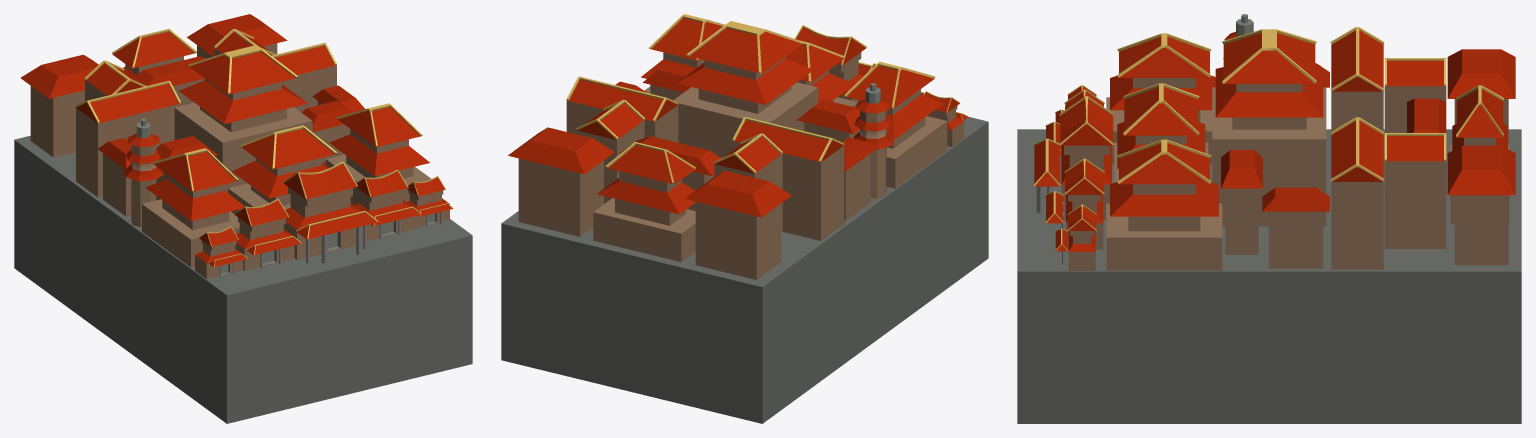
File: temple_north.fbx
3 renders of one model, left to right at view 1: azimuth 30°, elevation 25°; view 2: azimuth 150°, elevation 25°; view 3: azimuth 270°, elevation 25°, orthographic. The views are drawn at different scales.
Visible parts, largest first — view 1: temple_mailli5_temple_mailli4, pCube35, pCube36, polySurface14, pCube38, pCube30, pCube25, pCube24, pCube31, pCube37, pCylinder8, pCube27 (+6 smaller); view 2: temple_mailli5_temple_mailli4, pCube38, pCube36, polySurface14, pCube39, pCube35, polySurface18, pCube27, pCylinder8, pCube25, pCube37, pCube24 (+2 smaller); view 3: temple_mailli5_temple_mailli4, pCube35, pCube36, polySurface14, polySurface18, pCube38, pCube37, pCube25, pCube27, pCube24, pCube39, pCube30 (+4 smaller).
Boxes of the visible parts, bbox=[...] form: temple_mailli5_temple_mailli4: bbox=[14, 135, 472, 423]; pCube35: bbox=[142, 103, 431, 267]; pCube36: bbox=[174, 45, 312, 192]; polySurface14: bbox=[75, 42, 336, 197]; pCube38: bbox=[20, 14, 287, 157]; pCube30: bbox=[234, 169, 413, 270]; pCube25: bbox=[228, 125, 337, 213]; pCube24: bbox=[283, 161, 363, 259]; pCube31: bbox=[195, 176, 449, 279]; pCube37: bbox=[98, 85, 364, 216]; pCylinder8: bbox=[123, 118, 163, 227]; pCube27: bbox=[156, 100, 353, 200]; temple_mailli5_temple_mailli4: bbox=[501, 117, 988, 423]; pCube38: bbox=[508, 127, 791, 279]; pCube36: bbox=[673, 21, 818, 157]; polySurface14: bbox=[566, 76, 844, 240]; pCube39: bbox=[593, 142, 695, 261]; pCube35: bbox=[641, 14, 947, 188]; polySurface18: bbox=[576, 99, 782, 232]; pCube27: bbox=[643, 62, 859, 141]; pCylinder8: bbox=[853, 83, 894, 198]; pCube25: bbox=[785, 41, 857, 107]; pCube37: bbox=[615, 81, 875, 220]; pCube24: bbox=[794, 25, 866, 101]; temple_mailli5_temple_mailli4: bbox=[1017, 129, 1521, 423]; pCube35: bbox=[1106, 33, 1222, 270]; pCube36: bbox=[1212, 29, 1326, 226]; polySurface14: bbox=[1330, 27, 1384, 269]; polySurface18: bbox=[1384, 58, 1446, 248]; pCube38: bbox=[1447, 49, 1515, 265]; pCube37: bbox=[1262, 63, 1329, 268]; pCube25: bbox=[1114, 83, 1208, 182]; pCube27: bbox=[1221, 150, 1262, 254]; pCube24: bbox=[1059, 96, 1114, 220]; pCube39: bbox=[1450, 85, 1509, 224]; pCube30: bbox=[1064, 89, 1104, 249].
Bounding box in the file's own units: 10.22 × 10.3 × 15.
